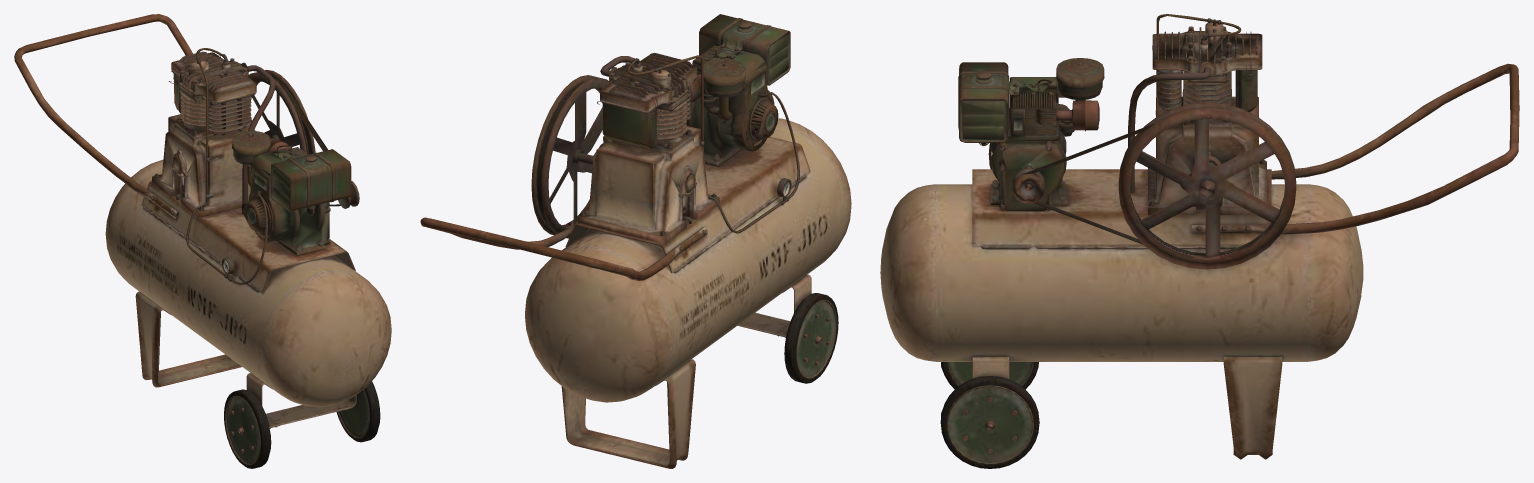
The model's file is old_military_compressor.glb.
The picture shows the model from 3 angles, left to right: view 1: azimuth 30°, elevation 25°; view 2: azimuth 150°, elevation 25°; view 3: azimuth 270°, elevation 25°; orthographic projection. The views are drawn at different scales.
Parts seen in each view (by area): view 1: old_military_compressor; view 2: old_military_compressor; view 3: old_military_compressor.
Boxes of the visible parts, box(x1,y1,x2,y2) form: old_military_compressor: box(14, 14, 391, 468); old_military_compressor: box(420, 14, 851, 468); old_military_compressor: box(880, 14, 1519, 468).
Bounding box in the file's own units: 0.5983 × 1.18 × 1.68.
2 materials, 2 textured.
